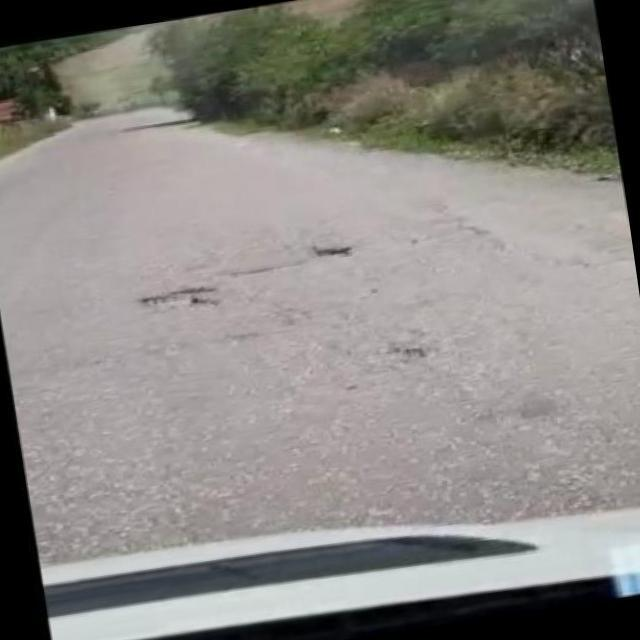Pothole: (137, 287, 220, 308), (313, 247, 353, 257)
